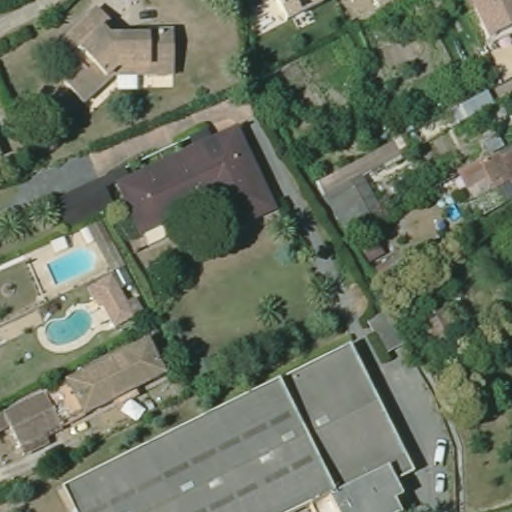pool: (42, 306, 97, 344), (45, 248, 97, 285), (441, 200, 463, 222)
